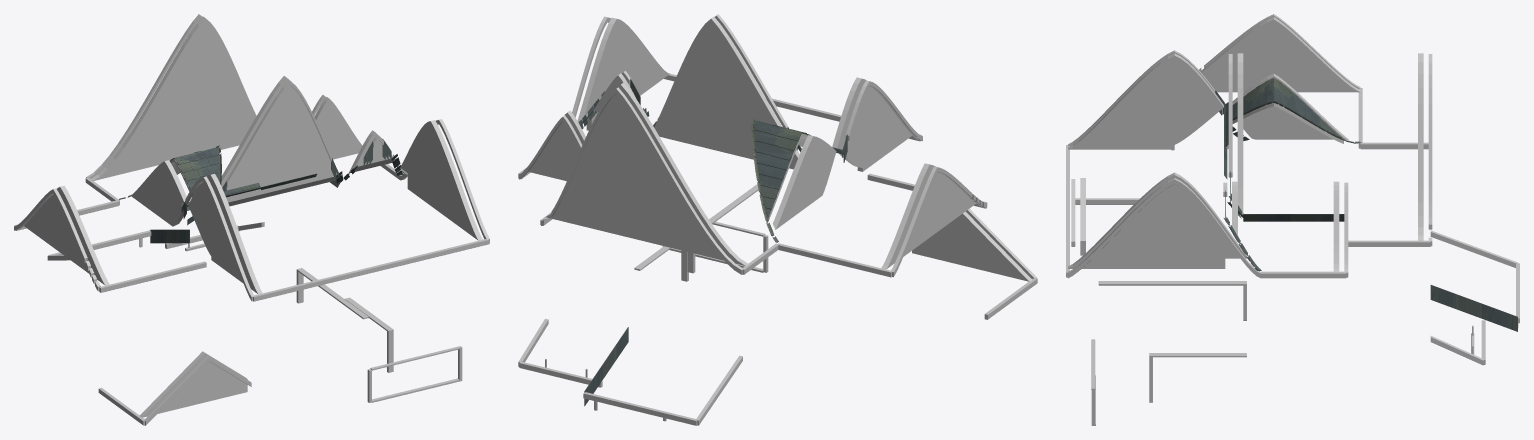
File: CM02_ArchitecturalFinishing.fbx
3 renders of one model, left to right at view 1: azimuth 30°, elevation 25°; view 2: azimuth 150°, elevation 25°; view 3: azimuth 270°, elevation 25°, orthographic. The views are drawn at different scales.
Visible parts, largest first — view 1: Gable_Roof_Hero_A, CM02_Fitted_EaveVergeNetwork_Timber, Gable_Roof_Hero_B, Gable_Roof_RearCross_A, Gable_Roof_RearCross_B, Gable_Roof_SubordinateWing_B, Gable_Roof_GardenStore_B, Gable_Roof_SubordinateWing_A, Gable_Roof_StairNook_A, CM02_FittedWingJunctionReturn_Slate, CM02_Fitted_EaveVergeNetwork_Slate, Gable_Roof_StairNook_B (+2 smaller); view 2: Gable_Roof_Hero_A, CM02_Fitted_EaveVergeNetwork_Timber, Gable_Roof_Hero_B, Gable_Roof_RearCross_B, Gable_Roof_RearCross_A, Gable_Roof_GardenStore_B, Gable_Roof_SubordinateWing_B, Gable_Roof_SubordinateWing_A, CM02_FittedWingJunctionReturn_Slate, Gable_Roof_StairNook_A, CM02_Fitted_EaveVergeNetwork_Slate, CM02_ConformedValleyLiners_Slate; view 3: CM02_Fitted_EaveVergeNetwork_Timber, Gable_Roof_RearCross_A, Gable_Roof_RearCross_B, Gable_Roof_SubordinateWing_B, Gable_Roof_SubordinateWing_A, CM02_FittedWingJunctionReturn_Slate, CM02_Fitted_EaveVergeNetwork_Slate, Gable_Roof_Hero_A, Gable_Roof_Hero_B, CM02_Fitted_ValleyNetwork_Slate, CM02_ConformedValleyLiners_Slate, Finish_UpperGuardCap (+4 smaller).
Boxes of the visible parts, left/top/right/bottom form: Gable_Roof_Hero_A: left=90, top=16, right=256, bottom=180; CM02_Fitted_EaveVergeNetwork_Timber: left=14, top=14, right=489, bottom=425; Gable_Roof_Hero_B: left=221, top=76, right=338, bottom=206; Gable_Roof_RearCross_A: left=400, top=120, right=482, bottom=240; Gable_Roof_RearCross_B: left=188, top=173, right=262, bottom=294; Gable_Roof_SubordinateWing_B: left=24, top=185, right=109, bottom=285; Gable_Roof_GardenStore_B: left=139, top=351, right=247, bottom=417; Gable_Roof_SubordinateWing_A: left=131, top=160, right=186, bottom=226; Gable_Roof_StairNook_A: left=314, top=97, right=362, bottom=159; CM02_FittedWingJunctionReturn_Slate: left=170, top=147, right=260, bottom=195; CM02_Fitted_EaveVergeNetwork_Slate: left=150, top=139, right=391, bottom=243; Gable_Roof_StairNook_B: left=348, top=130, right=394, bottom=173; Gable_Roof_Hero_A: left=546, top=82, right=748, bottom=265; CM02_Fitted_EaveVergeNetwork_Timber: left=518, top=14, right=1037, bottom=425; Gable_Roof_Hero_B: left=654, top=16, right=799, bottom=169; Gable_Roof_RearCross_B: left=832, top=77, right=911, bottom=171; Gable_Roof_RearCross_A: left=577, top=17, right=669, bottom=130; Gable_Roof_GardenStore_B: left=912, top=211, right=1032, bottom=281; Gable_Roof_SubordinateWing_B: left=881, top=163, right=975, bottom=269; Gable_Roof_SubordinateWing_A: left=772, top=135, right=836, bottom=229; CM02_FittedWingJunctionReturn_Slate: left=753, top=120, right=810, bottom=217; Gable_Roof_StairNook_A: left=524, top=110, right=585, bottom=181; CM02_Fitted_EaveVergeNetwork_Slate: left=584, top=78, right=847, bottom=406; CM02_ConformedValleyLiners_Slate: left=580, top=107, right=843, bottom=242; CM02_Fitted_EaveVergeNetwork_Timber: left=1066, top=14, right=1519, bottom=365; Gable_Roof_RearCross_A: left=1068, top=172, right=1247, bottom=268; Gable_Roof_RearCross_B: left=1068, top=53, right=1223, bottom=149; Gable_Roof_SubordinateWing_B: left=1200, top=17, right=1360, bottom=92; Gable_Roof_SubordinateWing_A: left=1232, top=73, right=1348, bottom=139; CM02_FittedWingJunctionReturn_Slate: left=1227, top=78, right=1341, bottom=145; CM02_Fitted_EaveVergeNetwork_Slate: left=1215, top=90, right=1517, bottom=331; Gable_Roof_Hero_A: left=1418, top=53, right=1423, bottom=240; Gable_Roof_Hero_B: left=1237, top=53, right=1243, bottom=212; CM02_Fitted_ValleyNetwork_Slate: left=1222, top=102, right=1344, bottom=270; CM02_ConformedValleyLiners_Slate: left=1224, top=101, right=1361, bottom=271; Finish_UpperGuardCap: left=1098, top=281, right=1246, bottom=285.
Size of the model in its own units: 12.21 by 9.56 by 12.56.
